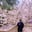face: (18, 17, 23, 24)
